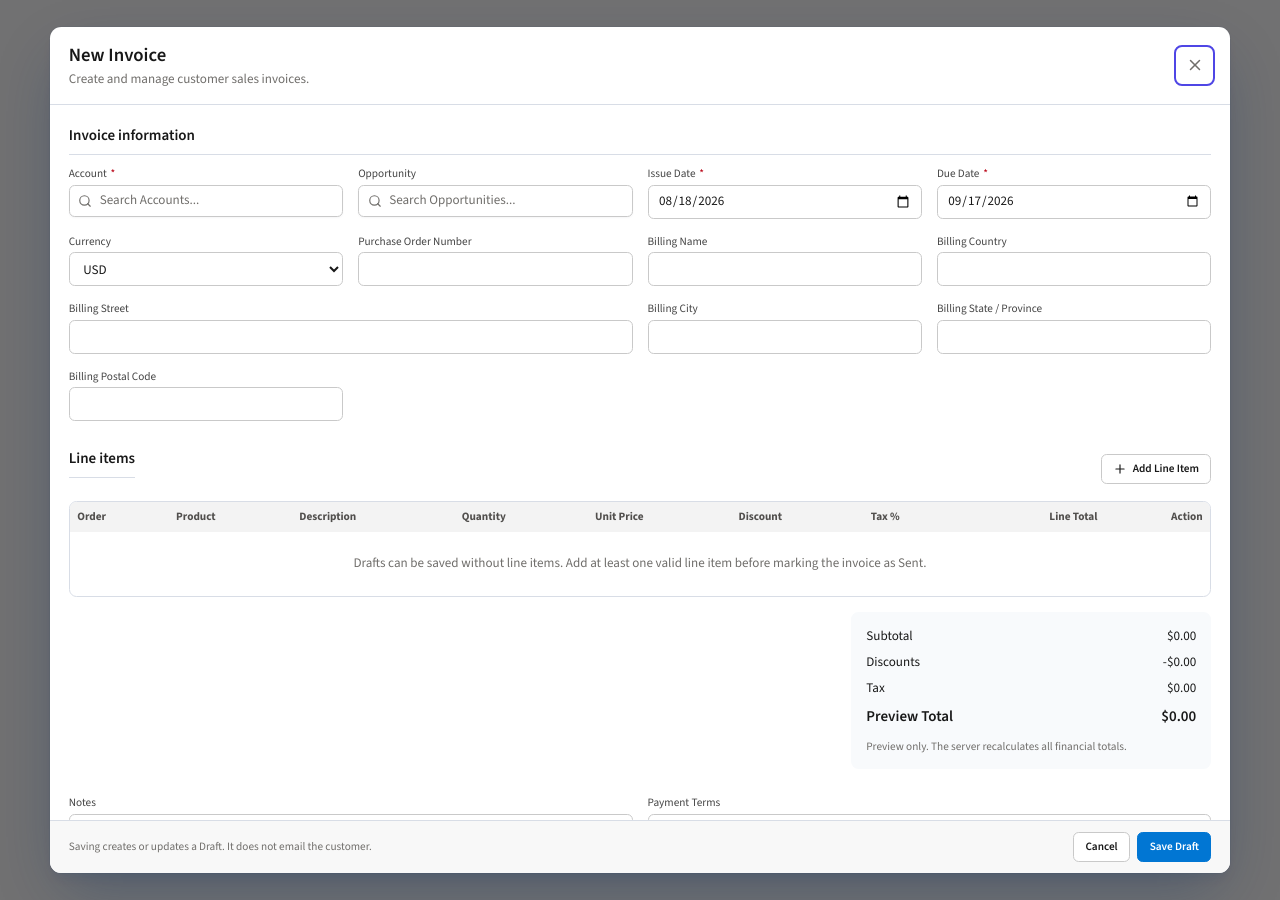
Test: searchable record lookups › uses Account and account-scoped Opportunity lookups in Invoices
In the dropdown labelled "Account": (206, 201) left=69, top=185, right=343, bottom=217, type "Beta"
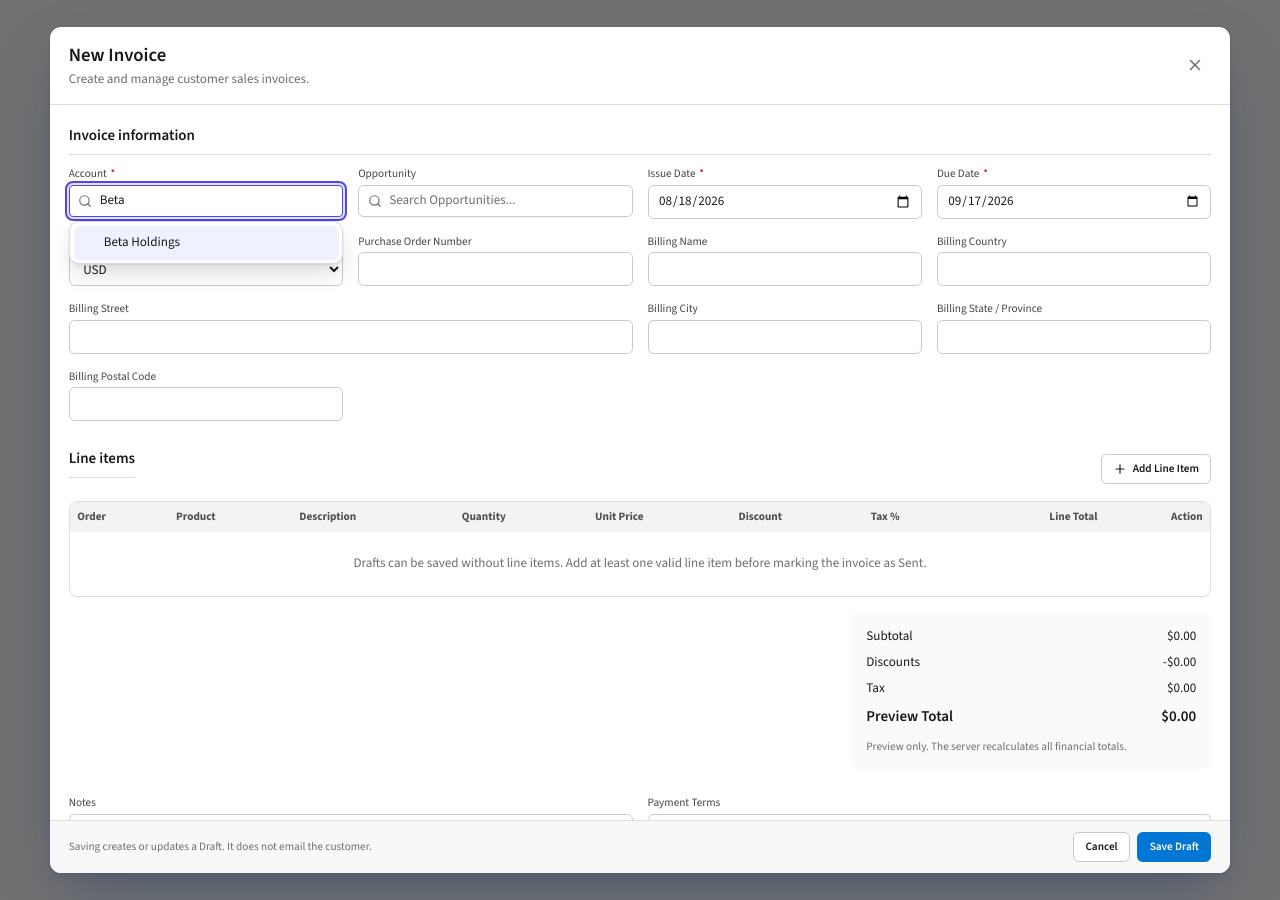
Click the option "Beta Holdings": (142, 242) left=74, top=226, right=339, bottom=260
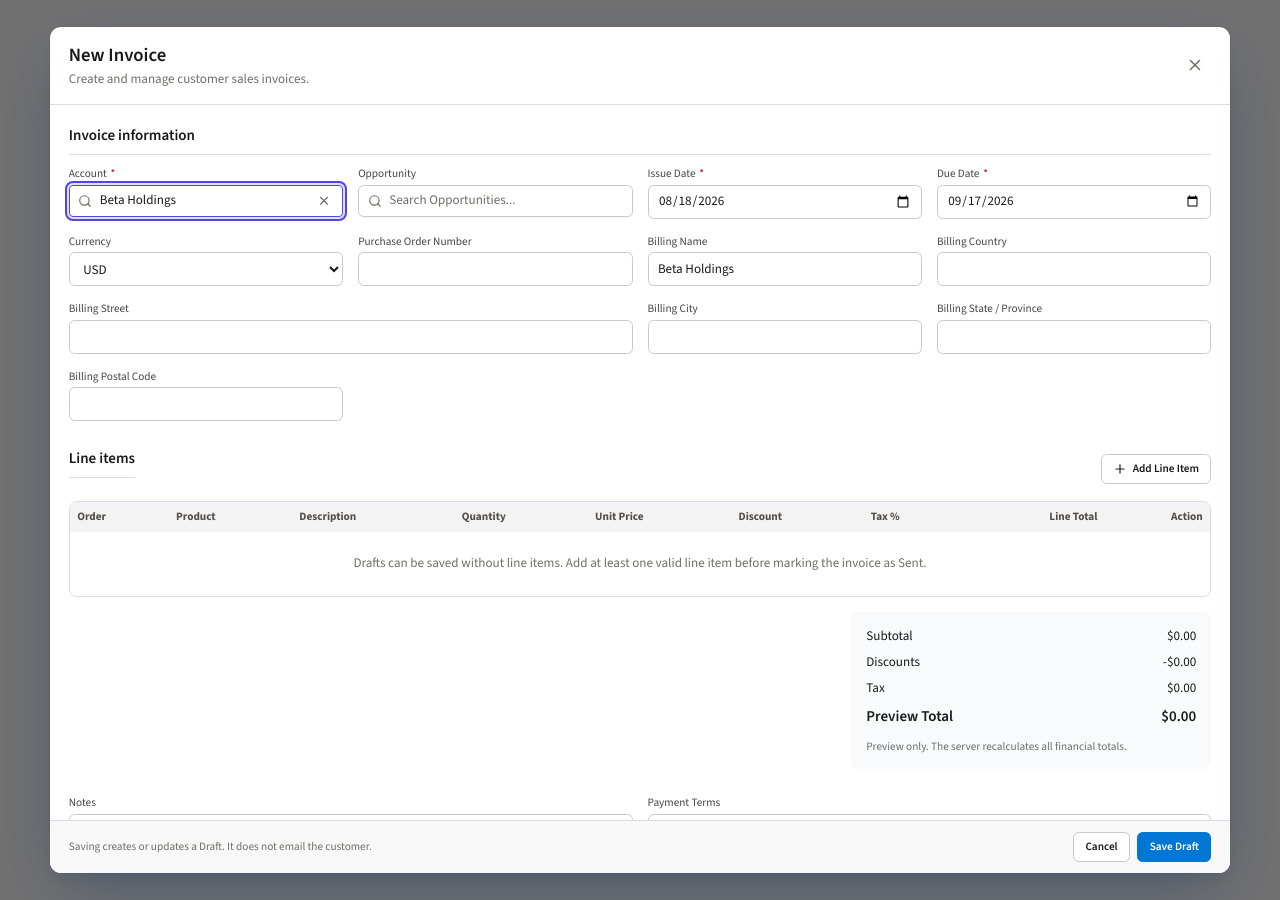
Click the dropdown labelled "Opportunity": (495, 201) left=358, top=185, right=632, bottom=217
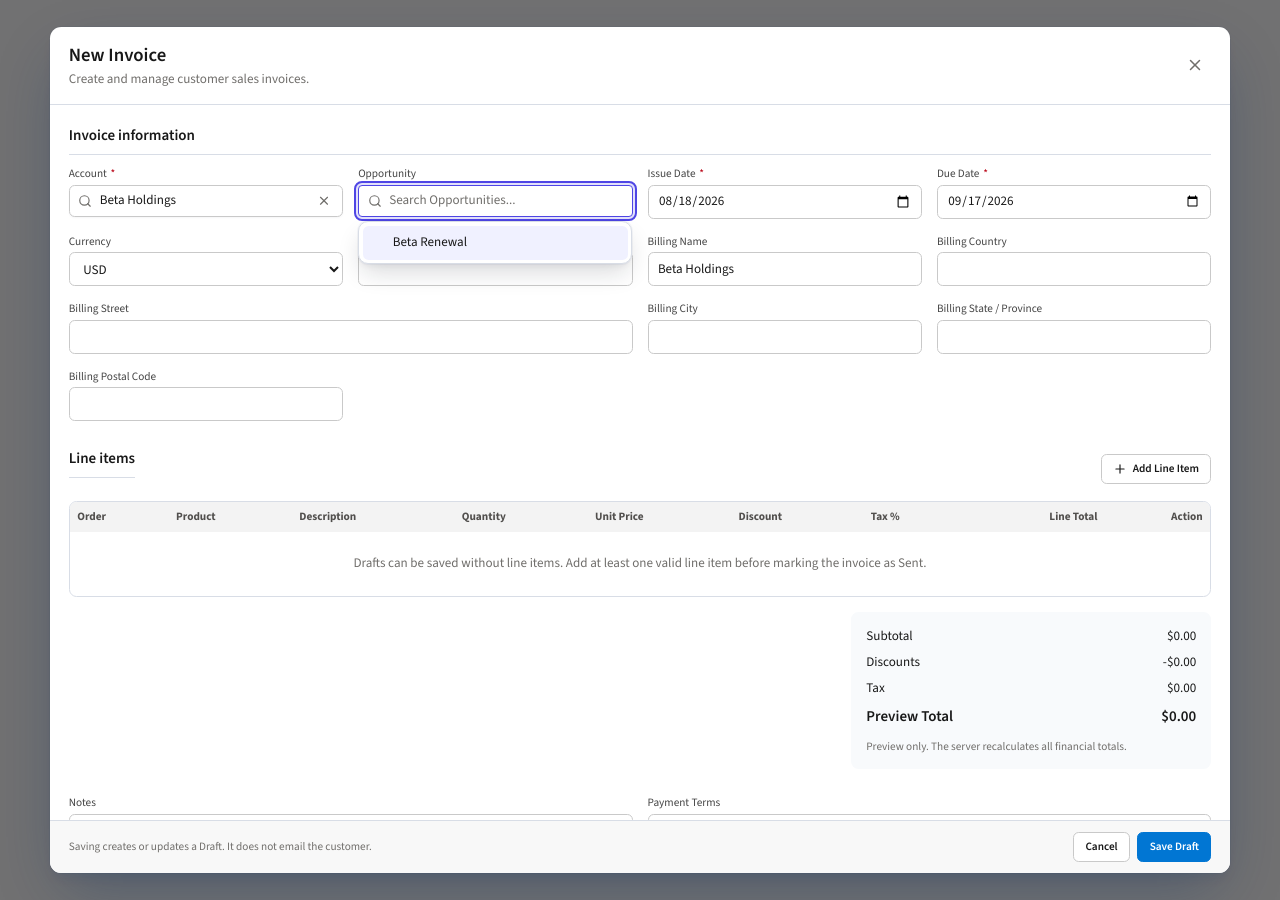
Expected: the option "Beta Renewal" is shown, left=363, top=226, right=628, bottom=260
Press Escape
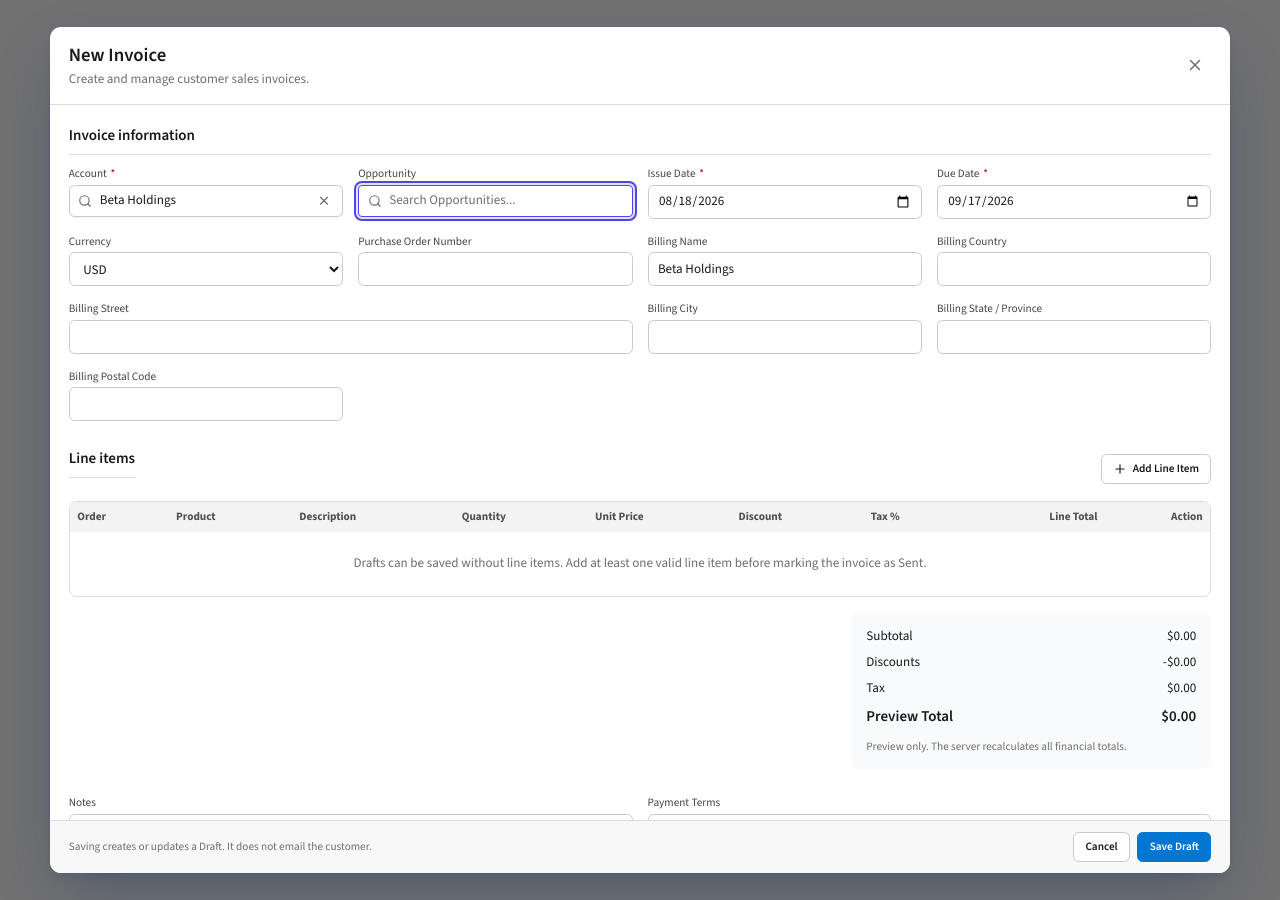
Click the button "Add Line Item": (1156, 468) left=1101, top=454, right=1211, bottom=484
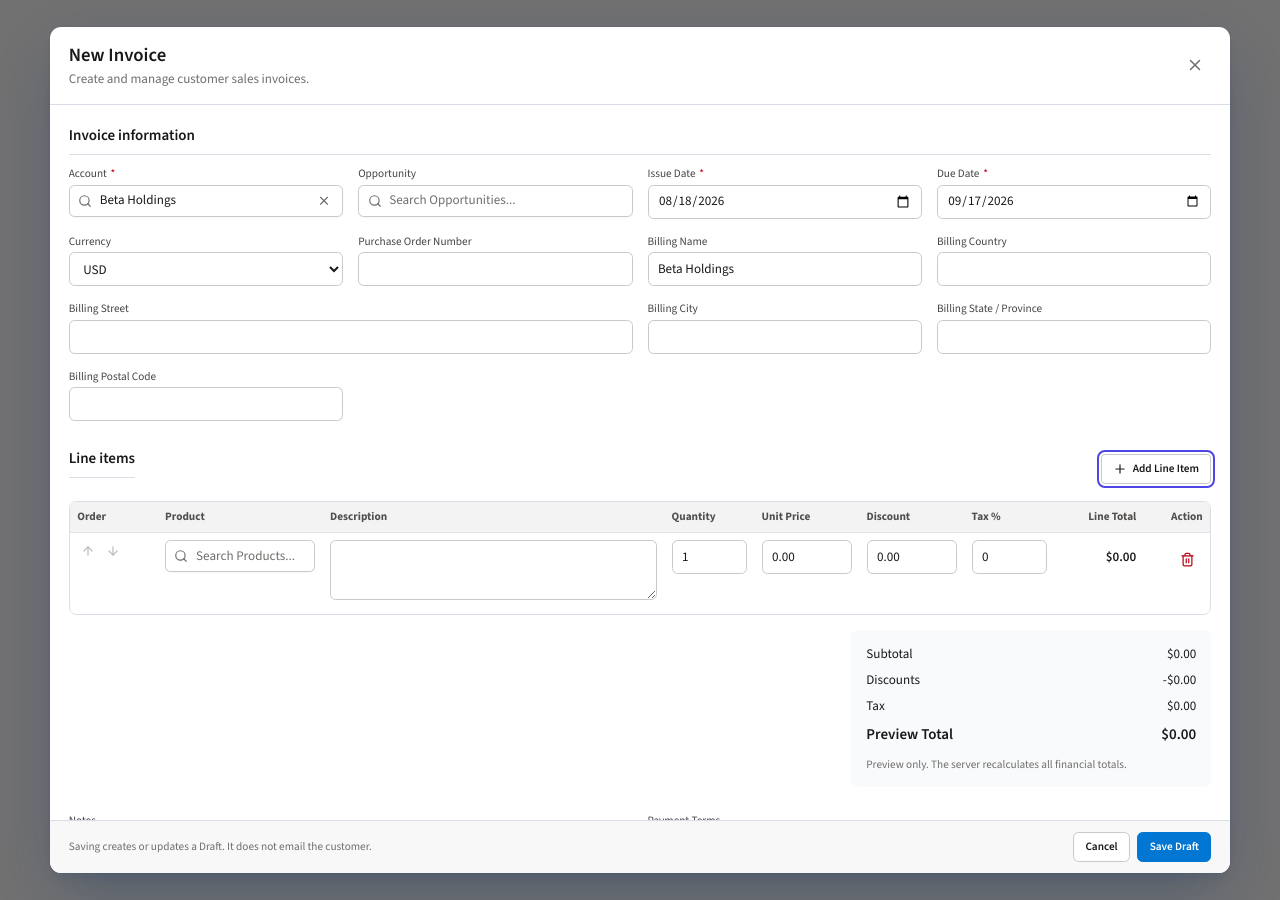
In the dropdown named "Line 1 Product": (240, 556) left=165, top=540, right=315, bottom=572, type "Widget"
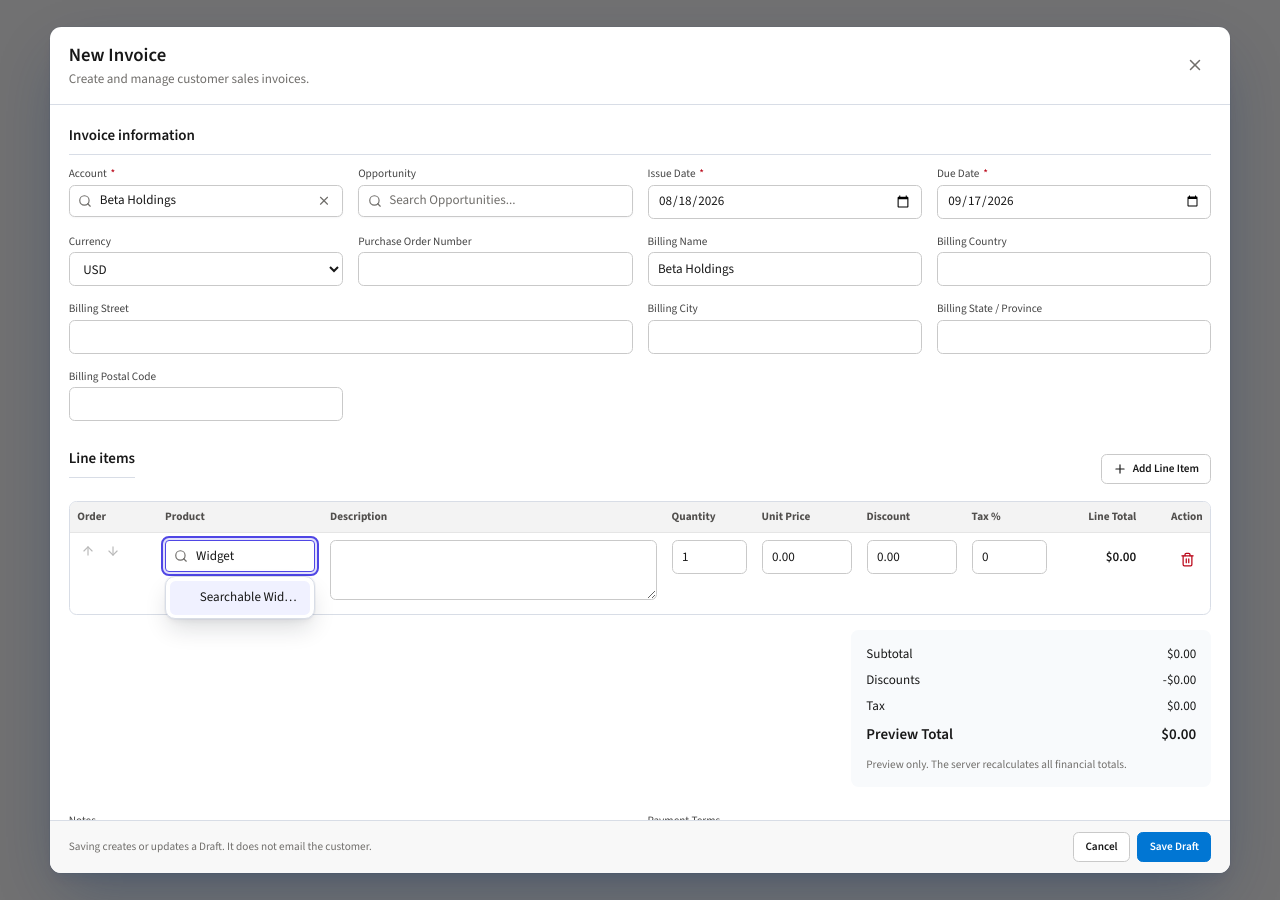
Expected: the option "Searchable Widget" is shown, left=170, top=581, right=310, bottom=615
